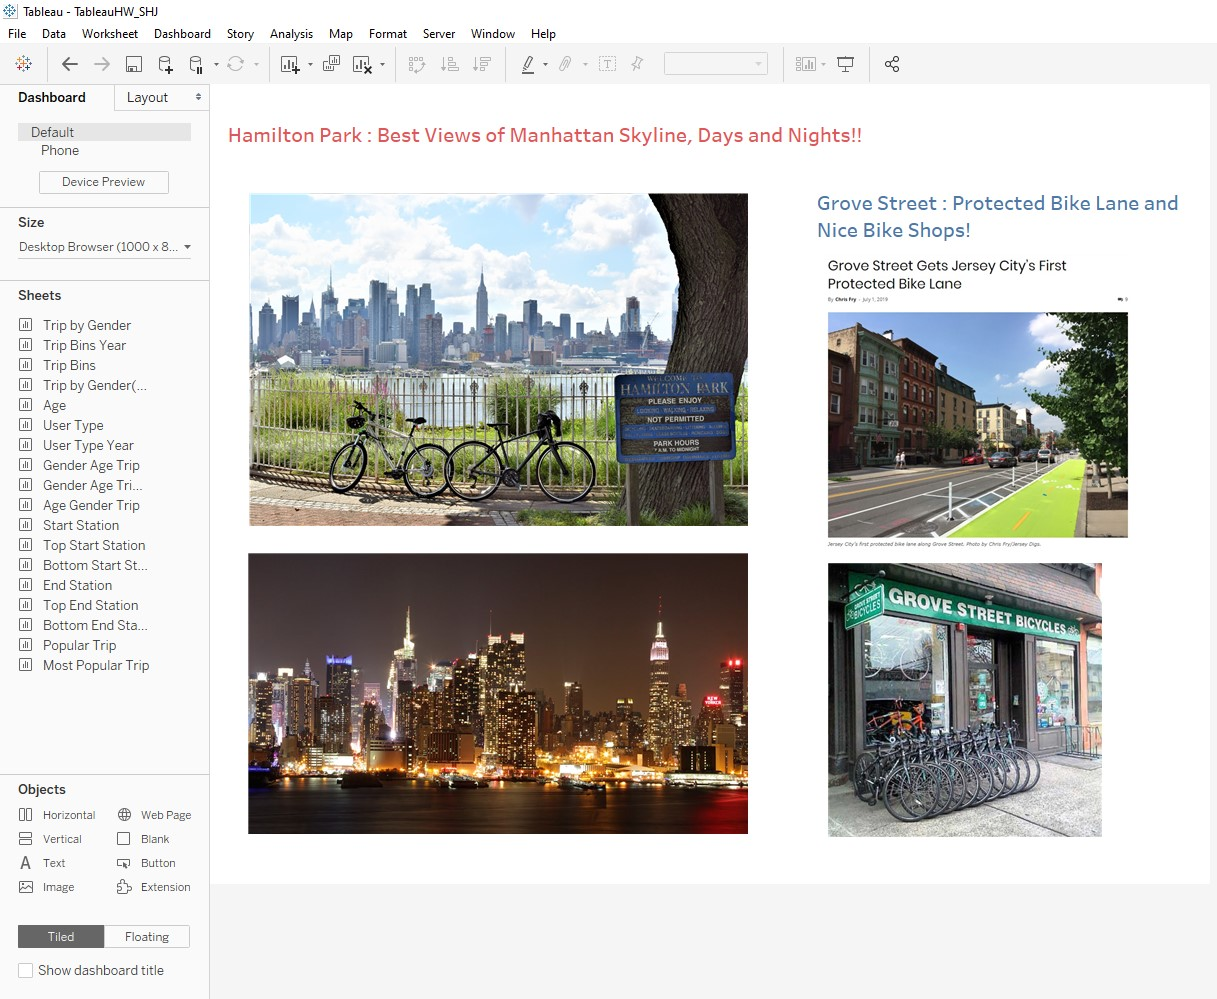

The page's visual inventory and layout, read from the dashboard file:
{"tool":"tableau","page":{"name":"Most Popular Trip Pics","canvas":[1000,800],"ordinal":1},"visuals":[{"type":"text","box":[15,22,842,57]},{"type":"text","box":[604,81,396,102]},{"type":"image","param":"C:/Users/beste/Tableau/hamilton park.jfif","box":[31,99,500,358]},{"type":"image","param":"C:/Users/beste/Tableau/Grove st.jpg","box":[646,178,287,321]},{"type":"image","param":"C:/Users/beste/Tableau/hamilton park night.jpg","box":[30,465,499,327]},{"type":"image","param":"C:/Users/beste/Tableau/Grove_Storefront_450.jpg","box":[655,515,313,273]}]}

Visuals, with their boxes on the page's 1000x800 design canvas (x1, y1, x2, y2). These are canvas units, not pixel positions in the 1217x999 screenshot, which may show the page scaled, cropped or inside an application window:
text: (left=15, top=22, right=857, bottom=79)
text: (left=604, top=81, right=1000, bottom=183)
image: (left=31, top=99, right=531, bottom=457)
image: (left=646, top=178, right=933, bottom=499)
image: (left=30, top=465, right=529, bottom=792)
image: (left=655, top=515, right=968, bottom=788)
